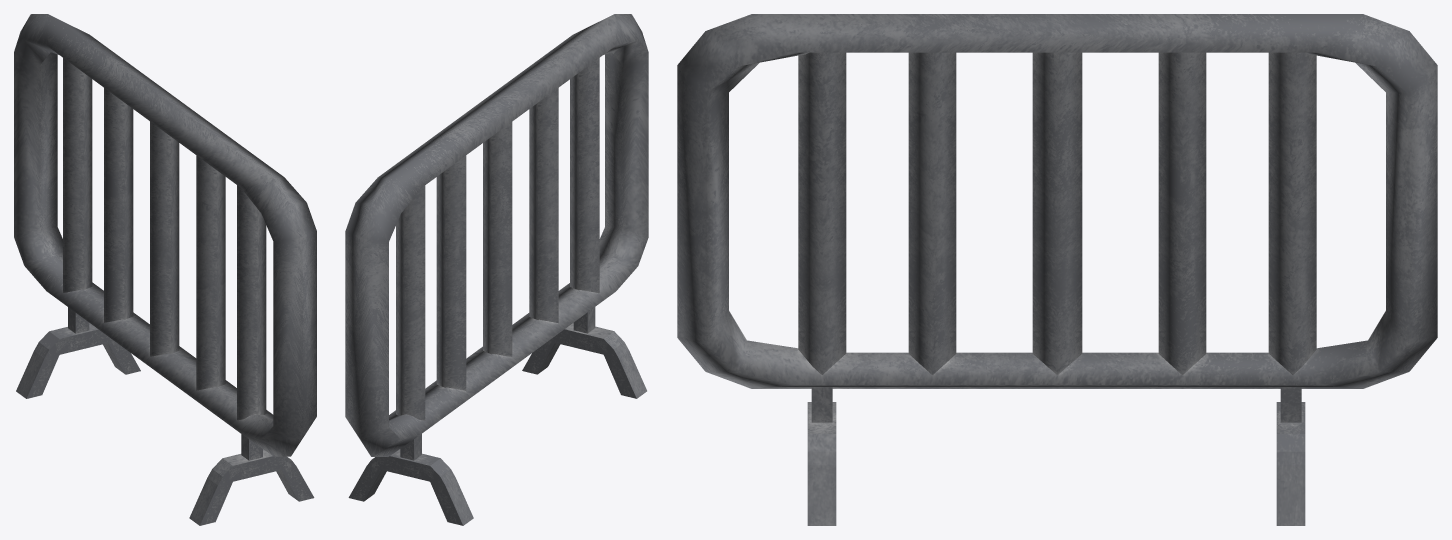
Rendered from Obstacle_fence_1.fbx.
The picture shows the model from 3 angles, left to right: view 1: azimuth 30°, elevation 25°; view 2: azimuth 150°, elevation 25°; view 3: azimuth 270°, elevation 25°; orthographic projection. The views are drawn at different scales.
Visible parts, largest first — view 1: Obstacle_fence_1; view 2: Obstacle_fence_1; view 3: Obstacle_fence_1.
Boxes of the visible parts, box(x1,y1,x2,y2) form: Obstacle_fence_1: box(14, 14, 316, 525); Obstacle_fence_1: box(345, 14, 648, 525); Obstacle_fence_1: box(677, 14, 1437, 525).
Bounding box in the file's own units: 52.83 × 153 × 224.
